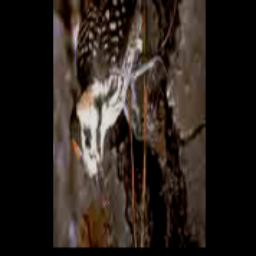Woodpecker: (70, 0, 161, 221)
